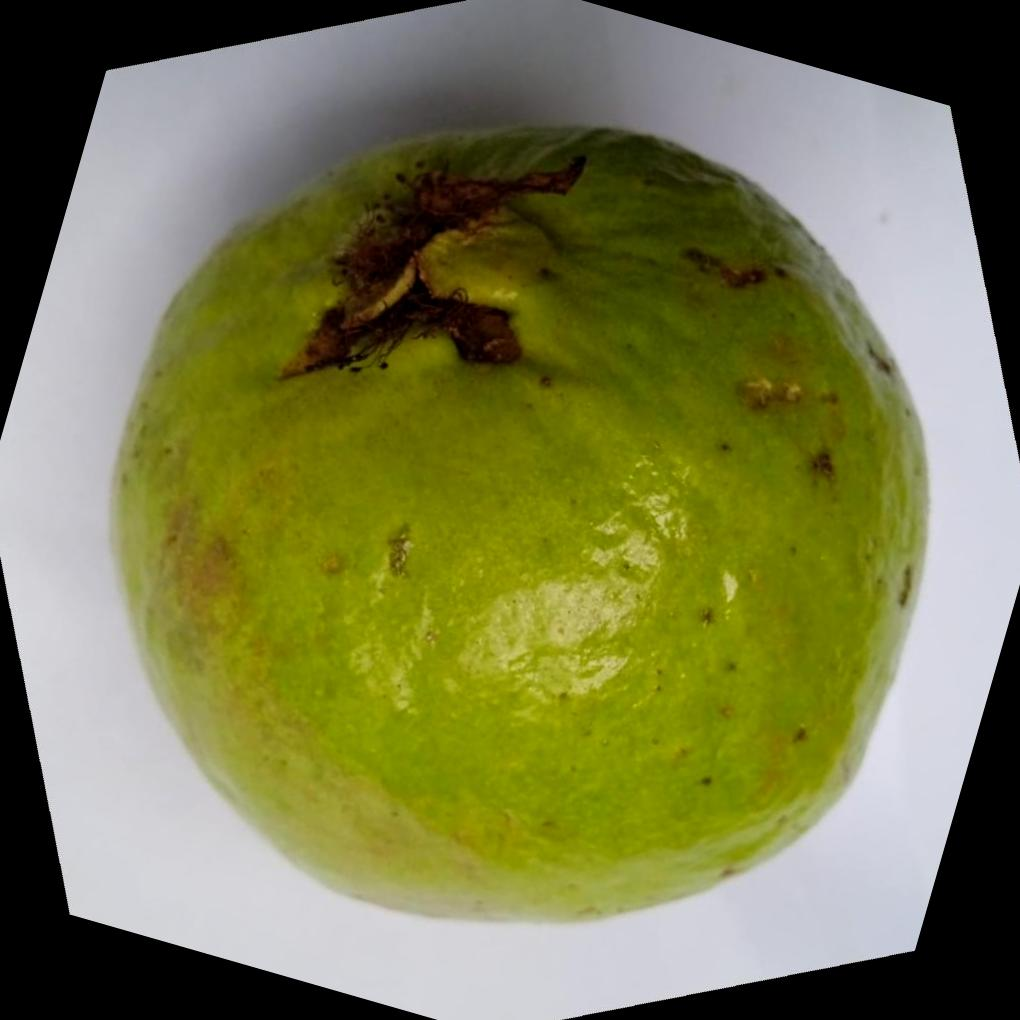FreshGuava: (108, 122, 928, 931)
